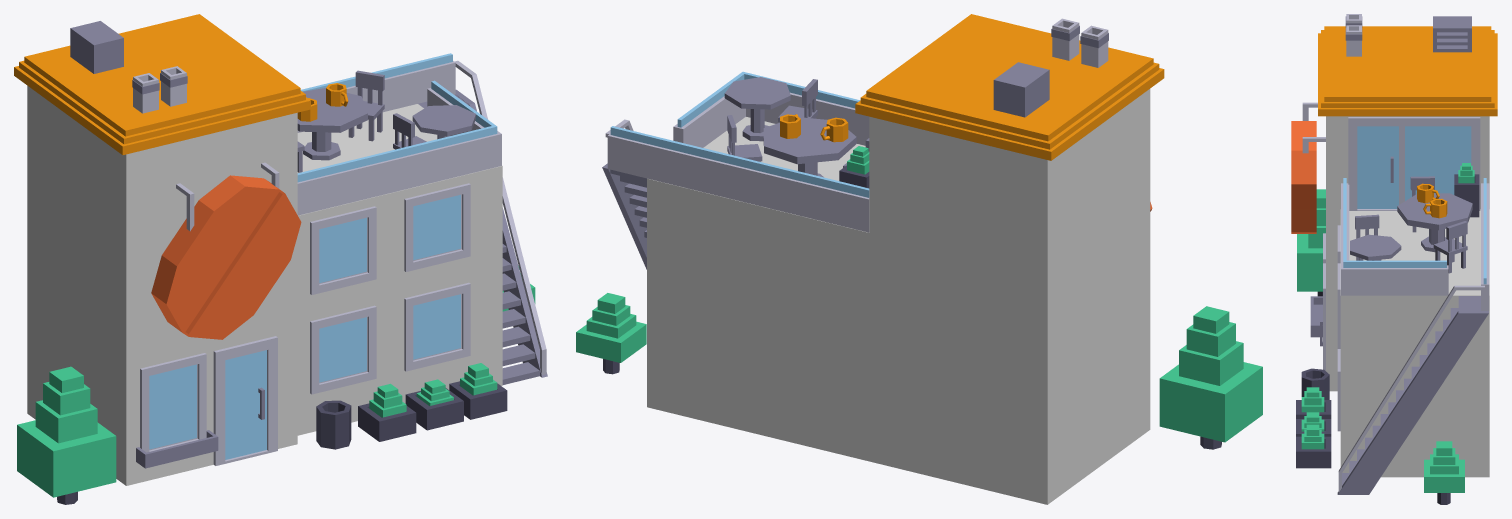
Rendered from coffee.glb.
3 renders of one model, left to right at view 1: azimuth 30°, elevation 25°; view 2: azimuth 150°, elevation 25°; view 3: azimuth 270°, elevation 25°, orthographic. The views are drawn at different scales.
Parts seen in each view (by area): view 1: Cube.069, Cube.067, Cube.070, Cube.128, Cube.096, Cube.089, Cube.068, Cube.869, Cube.168, Cube.094, Cube.071, Cube.091 (+18 smaller); view 2: Cube.069, Cube.067, Cube.096, Cube.087, Cube.168, Cube.094, Cube.089, Cube.095, Circle, Cube.090, Cube.115, Cube.169 (+9 smaller); view 3: Cube.067, Cube.096, Cube.1071, Cube.072, Cube.069, Cube.089, Cube.128, Cube.094, Circle, Cube.095, Cube.071, Cube.115 (+30 smaller).
Part boxes in pixels (bbox=[...]): Cube.069: bbox=[27, 86, 297, 485]; Cube.067: bbox=[297, 104, 502, 435]; Cube.070: bbox=[310, 183, 470, 394]; Cube.128: bbox=[151, 175, 301, 339]; Cube.096: bbox=[24, 14, 300, 136]; Cube.089: bbox=[297, 88, 501, 215]; Cube.068: bbox=[213, 336, 277, 465]; Cube.869: bbox=[140, 353, 206, 452]; Cube.168: bbox=[17, 420, 116, 497]; Cube.094: bbox=[14, 66, 310, 154]; Cube.071: bbox=[418, 94, 539, 384]; Cube.091: bbox=[297, 80, 497, 182]; Cube.069: bbox=[869, 89, 1150, 504]; Cube.067: bbox=[647, 117, 882, 464]; Cube.096: bbox=[866, 14, 1153, 141]; Cube.087: bbox=[607, 134, 869, 232]; Cube.168: bbox=[1159, 362, 1262, 442]; Cube.094: bbox=[855, 68, 1164, 160]; Cube.089: bbox=[673, 92, 869, 147]; Cube.095: bbox=[860, 62, 1159, 149]; Circle: bbox=[763, 117, 856, 164]; Cube.090: bbox=[610, 126, 869, 197]; Cube.115: bbox=[993, 62, 1049, 117]; Cube.169: bbox=[1179, 341, 1243, 385]; Cube.067: bbox=[1340, 209, 1489, 477]; Cube.096: bbox=[1324, 26, 1491, 101]; Cube.1071: bbox=[1348, 117, 1480, 210]; Cube.072: bbox=[1337, 311, 1488, 494]; Cube.069: bbox=[1326, 116, 1489, 391]; Cube.089: bbox=[1341, 183, 1448, 295]; Cube.128: bbox=[1291, 121, 1316, 233]; Cube.094: bbox=[1318, 33, 1497, 116]; Circle: bbox=[1397, 193, 1472, 230]; Cube.095: bbox=[1321, 30, 1494, 107]; Cube.071: bbox=[1342, 296, 1480, 485]; Cube.115: bbox=[1433, 16, 1471, 52].
Bounding box in the file's own units: 6.53 × 4.31 × 2.53.
